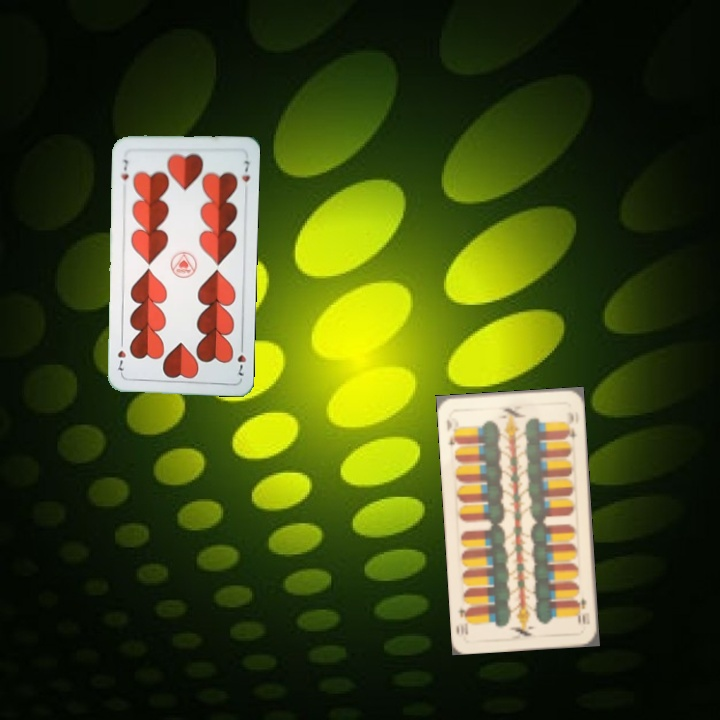E10: (442, 415, 461, 448), (573, 593, 589, 627)
H7: (233, 340, 248, 379), (117, 156, 131, 183)
